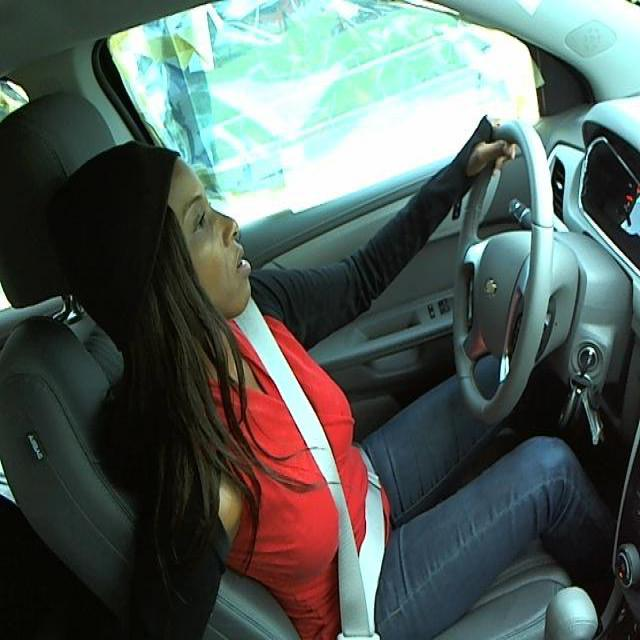seatbelt: (231, 323, 390, 636)
